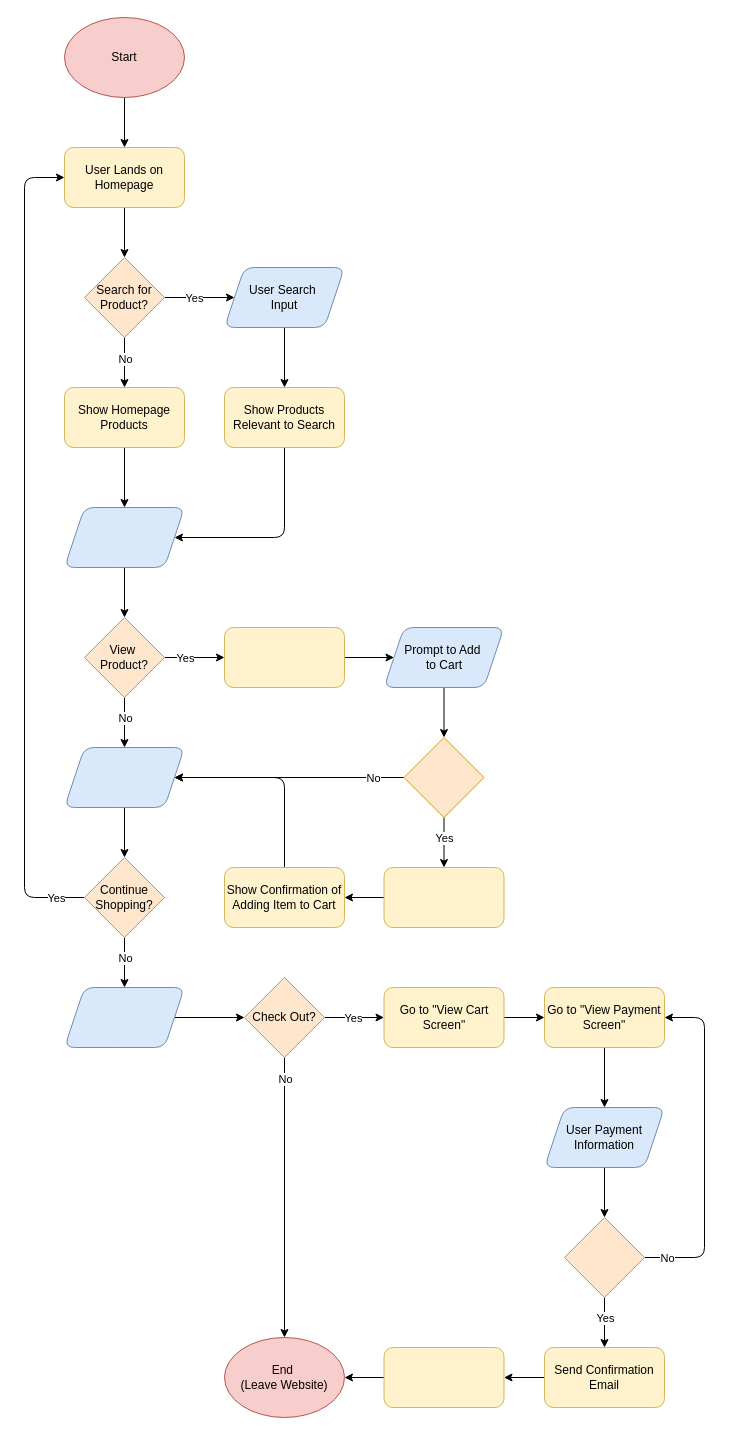
The diagram is 730 pixels wide and 1435 high, and some of its shapes have lost their labels. Here are the shapes that lost their labels. From the top down, the centre of each, then its label:
(x=124, y=537): Prompt to View Specific Product
(x=284, y=657): Open Product Webpage
(x=124, y=777): Prompt to Continue Shopping
(x=443, y=777): Add to Cart?
(x=443, y=897): Add Item to Cart
(x=124, y=1017): Prompt to Check Out
(x=604, y=1257): Payment Info Valid?
(x=443, y=1377): Go to "Order Confirmed" Page
